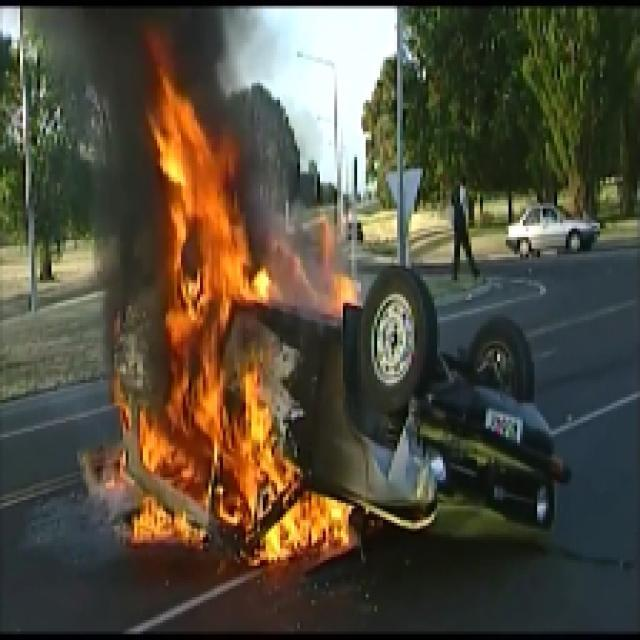Fire: (114, 0, 406, 583)
Smoke: (26, 9, 172, 418)
